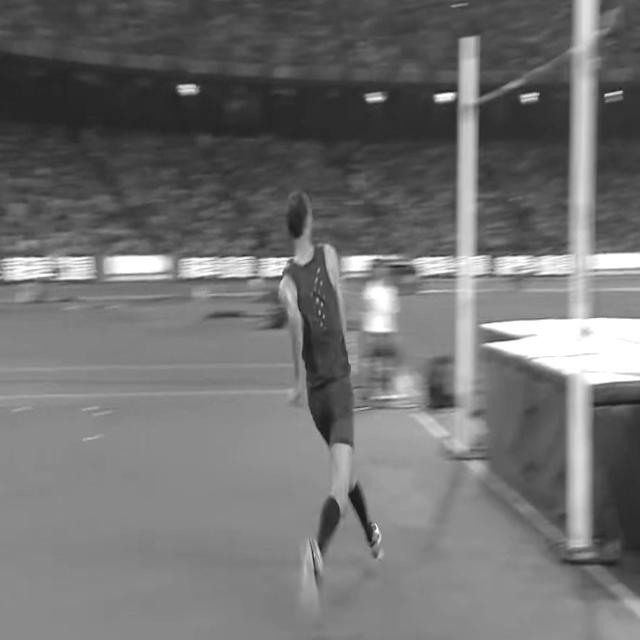run: (279, 185, 384, 616)
